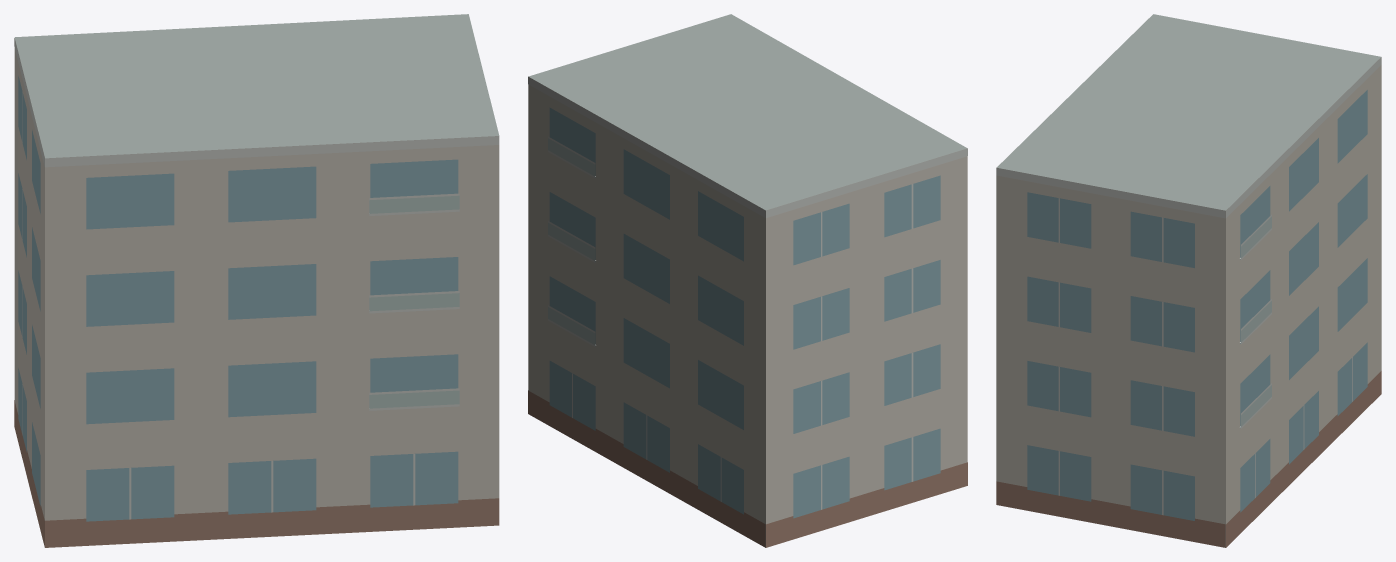
The model's file is survey-upis-32527543.glb.
3 renders of one model, left to right at view 1: azimuth 30°, elevation 25°; view 2: azimuth 150°, elevation 25°; view 3: azimuth 270°, elevation 25°, orthographic. The views are drawn at different scales.
Parts seen in each view (by area): view 1: survey-upis-32527543.tmp; view 2: survey-upis-32527543.tmp; view 3: survey-upis-32527543.tmp.
Boxes of the visible parts, x1,y1,x2,y2 form: survey-upis-32527543.tmp: (14, 14, 499, 547); survey-upis-32527543.tmp: (528, 14, 967, 547); survey-upis-32527543.tmp: (996, 14, 1381, 547).
Size of the model in its own units: 13.22 by 10.56 by 10.94.
